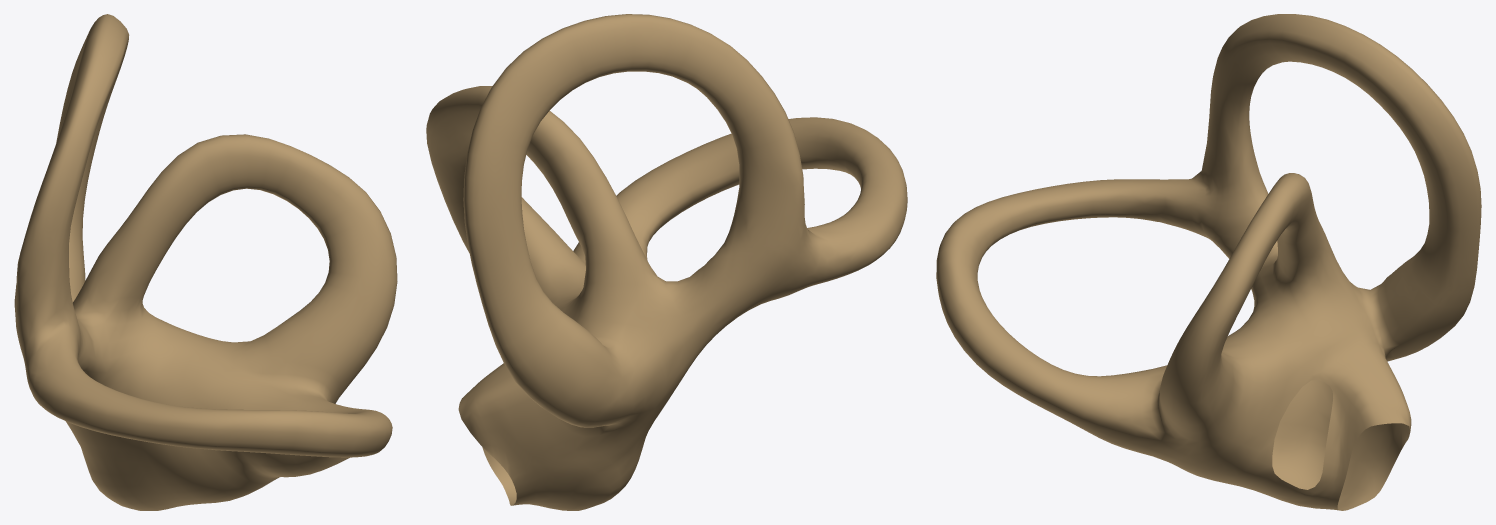
3 views of the same model, side by side, from view 1: azimuth 30°, elevation 25°; view 2: azimuth 150°, elevation 25°; view 3: azimuth 270°, elevation 25° (orthographic). The views are drawn at different scales.
Parts seen in each view (by area): view 1: 左侧前庭; view 2: 左侧前庭; view 3: 左侧前庭.
Boxes of the visible parts, bbox=[...] form: 左侧前庭: bbox=[14, 14, 397, 510]; 左侧前庭: bbox=[426, 14, 907, 510]; 左侧前庭: bbox=[936, 14, 1481, 510].
Size of the model in its own units: 0.0151 by 0.0177 by 0.0189.
